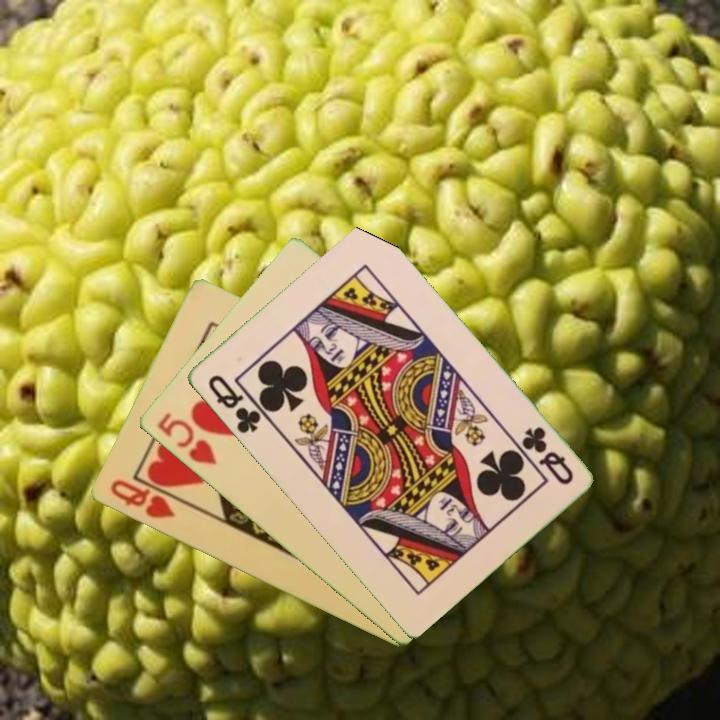5h: (153, 408, 220, 468)
Qc: (203, 371, 271, 437), (517, 423, 576, 488)
Qh: (106, 476, 178, 522)
